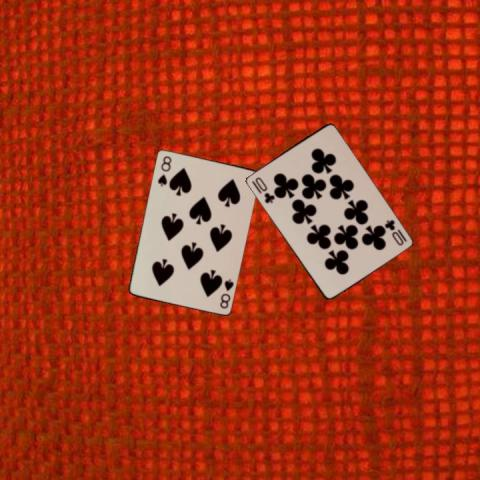10c: (249, 174, 276, 205), (381, 216, 408, 246)
8s: (154, 153, 172, 188), (216, 276, 234, 310)
